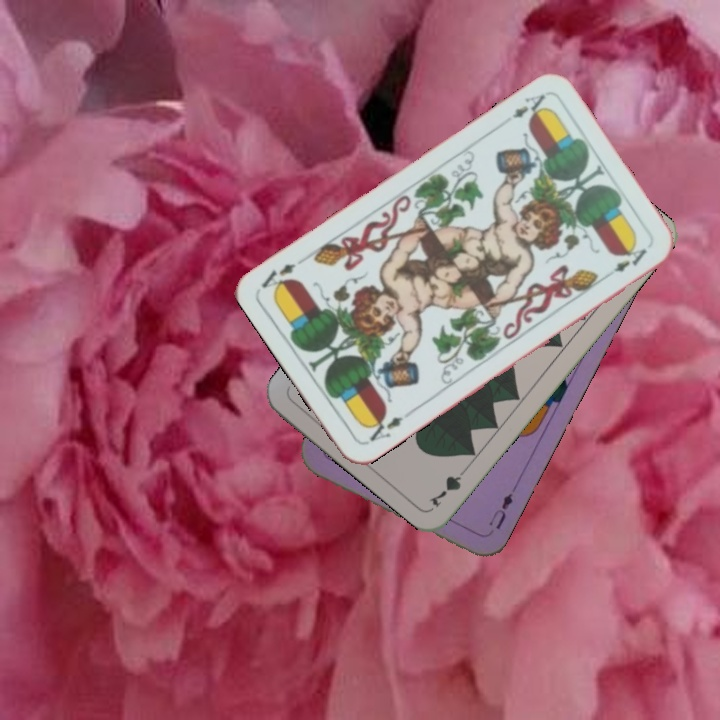EA: (362, 410, 406, 447), (508, 90, 550, 123)
EU: (484, 489, 516, 532)
G7: (425, 461, 473, 511)
